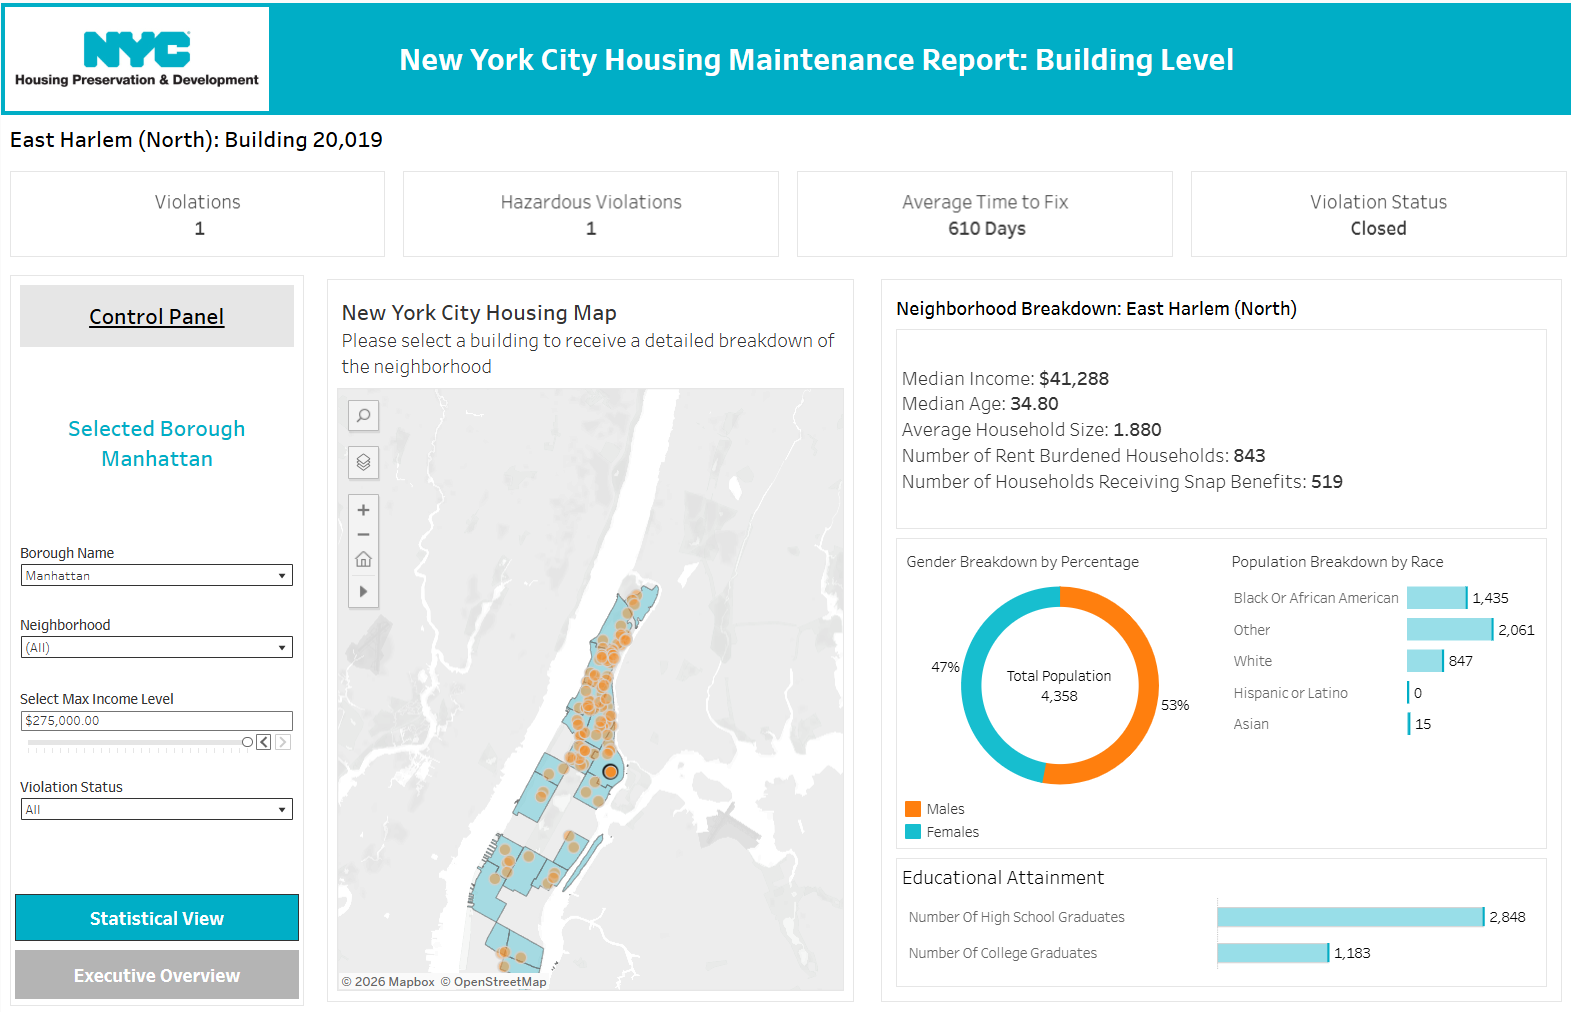

The dashboard page shown, as its layout file describes it:
{"tool":"tableau","page":{"name":"Analyst View: Map","canvas":[1400,900],"ordinal":0},"visuals":[{"type":"image","param":"Image/NYC-HPD.png","box":[0,0,350,100]},{"type":"text","box":[350,0,1050,100]},{"type":"text","box":[0,100,1400,42]},{"type":"worksheet","title":"Violations KPI","mark":"Automatic","box":[0,142,350,92]},{"type":"worksheet","title":"Hazardous Violations KPI","mark":"Automatic","box":[350,142,350,92]},{"type":"worksheet","title":"Time to Fix KPI","mark":"Automatic","box":[700,142,350,92]},{"type":"worksheet","title":"Violation Status KPI","mark":"Automatic","box":[1050,142,350,92]},{"type":"worksheet","title":"Map Overview","mark":"Automatic","box":[278,234,493,666]},{"type":"text","box":[9,243,260,71]},{"type":"text","box":[792,255,587,36]},{"type":"worksheet","title":"Table: Socioeconomic Breakdown","mark":"Automatic","box":[792,291,587,181]},{"type":"blank","box":[9,314,260,35]},{"type":"text","box":[9,349,260,85]},{"type":"blank","box":[9,434,260,38]},{"type":"filter","title":"Map Overview","param":"[federated.1fcd8z819iv1yk1fndv1k1cnskcp].[none:BoroName:nk]","box":[9,472,260,65]},{"type":"worksheet","title":"M:F Donut","mark":"Pie","rows":["BUILDING_ID (JC_NYC_BUILDINGS_DIM)"],"cols":["Calculation_1334868199407641","Calculation_1334868199407641"],"box":[797,477,289,224]},{"type":"worksheet","title":"Bar: Racial Breakdown","mark":"Bar","box":[1086,477,288,274]},{"type":"filter","title":"Map Overview","param":"[federated.1fcd8z819iv1yk1fndv1k1cnskcp].[none:NEIGHBORHOOD:nk]","box":[9,537,260,66]},{"type":"parameter","param":"[Parameters].[Parameter 3]","box":[9,603,260,78]},{"type":"parameter","param":"[Parameters].[Parameter 2]","box":[9,681,260,76]},{"type":"legend","title":"M:F Donut","param":"[federated.1fcd8z819iv1yk1fndv1k1cnskcp].[:Measure Names]","box":[797,701,289,50]},{"type":"blank","box":[9,757,260,32]},{"type":"text","box":[797,761,577,36]},{"type":"dashboard-object","box":[9,789,260,50]},{"type":"worksheet","title":"Educational Attainment","mark":"Automatic","box":[797,797,577,72]},{"type":"dashboard-object","box":[9,839,260,52]}]}

Visuals, with their boxes in screenshot pixels (x1, y1, x2, y2), scaled from the page's 1400x900 canvas onto the 1571x1012 screenshot:
image: (x1=0, y1=0, x2=393, y2=112)
text: (x1=393, y1=0, x2=1570, y2=112)
text: (x1=0, y1=112, x2=1570, y2=160)
"Violations KPI" worksheet: (x1=0, y1=160, x2=393, y2=263)
"Hazardous Violations KPI" worksheet: (x1=393, y1=160, x2=786, y2=263)
"Time to Fix KPI" worksheet: (x1=786, y1=160, x2=1178, y2=263)
"Violation Status KPI" worksheet: (x1=1178, y1=160, x2=1570, y2=263)
"Map Overview" worksheet: (x1=312, y1=263, x2=865, y2=1011)
text: (x1=10, y1=273, x2=302, y2=353)
text: (x1=889, y1=287, x2=1547, y2=327)
"Table: Socioeconomic Breakdown" worksheet: (x1=889, y1=327, x2=1547, y2=531)
blank: (x1=10, y1=353, x2=302, y2=392)
text: (x1=10, y1=392, x2=302, y2=488)
blank: (x1=10, y1=488, x2=302, y2=531)
"Map Overview" filter: (x1=10, y1=531, x2=302, y2=604)
"M:F Donut" worksheet (Pie marks): (x1=894, y1=536, x2=1219, y2=788)
"Bar: Racial Breakdown" worksheet (Bar marks): (x1=1219, y1=536, x2=1542, y2=844)
"Map Overview" filter: (x1=10, y1=604, x2=302, y2=678)
parameter: (x1=10, y1=678, x2=302, y2=766)
parameter: (x1=10, y1=766, x2=302, y2=851)
"M:F Donut" legend: (x1=894, y1=788, x2=1219, y2=844)
blank: (x1=10, y1=851, x2=302, y2=887)
text: (x1=894, y1=856, x2=1542, y2=896)
dashboard-object: (x1=10, y1=887, x2=302, y2=943)
"Educational Attainment" worksheet: (x1=894, y1=896, x2=1542, y2=977)
dashboard-object: (x1=10, y1=943, x2=302, y2=1002)
